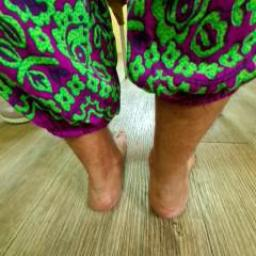Back View -Both Feet-: (52, 117, 230, 224)
